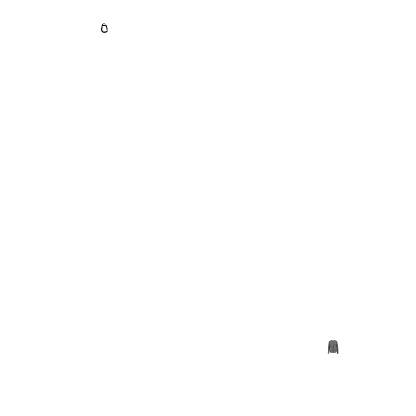0: (101, 269, 143, 311)
Bag: (114, 22, 198, 106)
Trouser: (182, 315, 210, 343)
